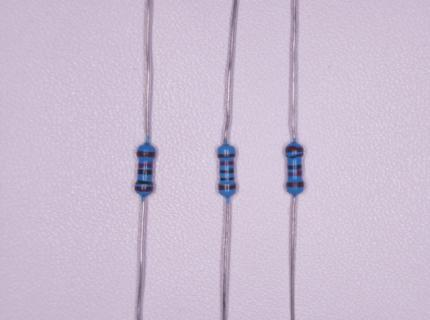Black band: (138, 169, 153, 175), (136, 180, 153, 185), (287, 165, 302, 170), (287, 155, 302, 159), (220, 170, 234, 174), (220, 177, 234, 181)
Brown band: (137, 151, 155, 158), (218, 184, 236, 191), (286, 145, 304, 152), (135, 186, 153, 192), (286, 182, 304, 187), (218, 153, 236, 158)
Red band: (288, 171, 302, 177), (139, 162, 153, 167), (220, 161, 234, 165)
